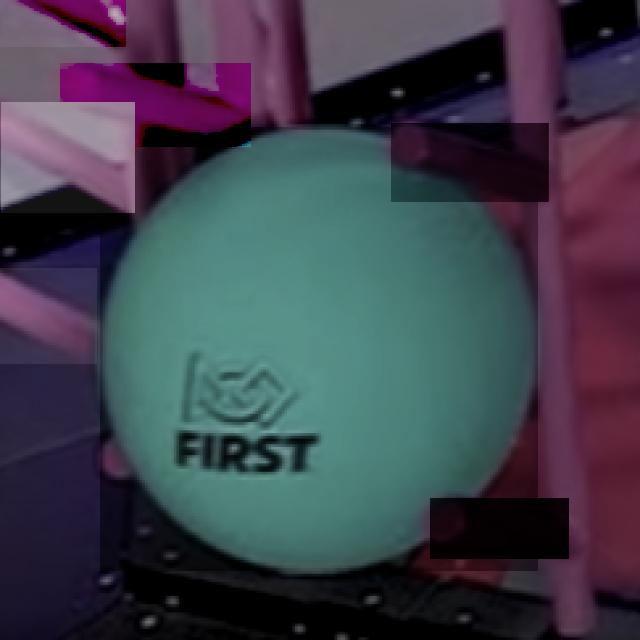Algae: (100, 127, 538, 571)
Reef: (60, 63, 251, 147), (1, 102, 135, 213), (392, 123, 550, 202), (0, 268, 97, 364), (430, 498, 569, 559), (0, 0, 126, 47)
